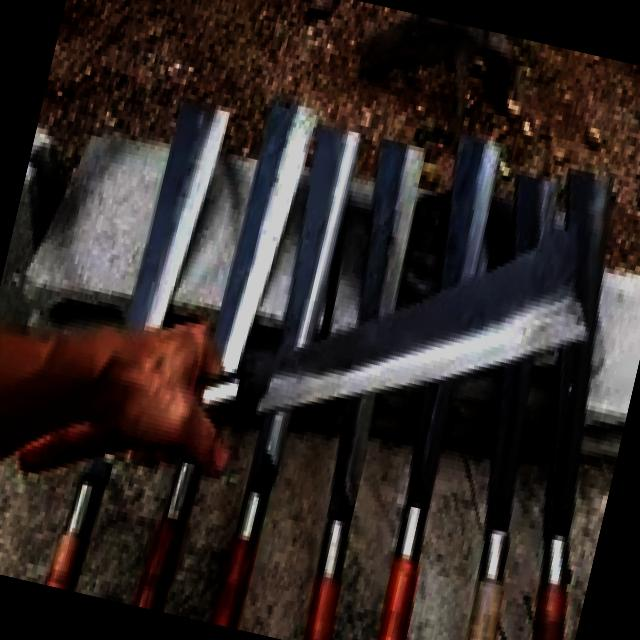eto: (543, 166, 611, 640)
